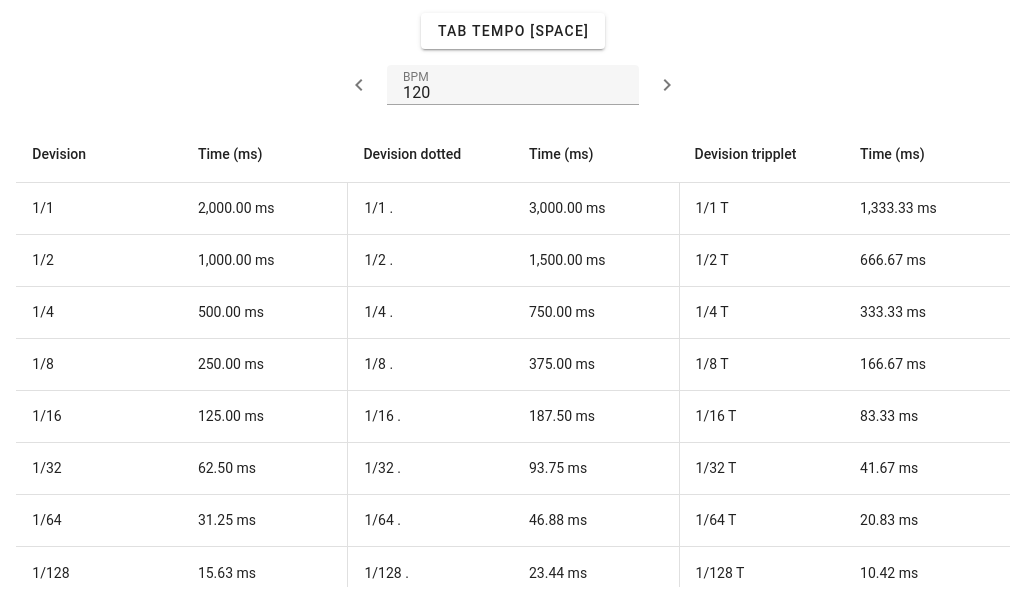
Test: BPM Comonent › increments bpm
Click the 3rd button at (667, 85), box [655,73,679,97]
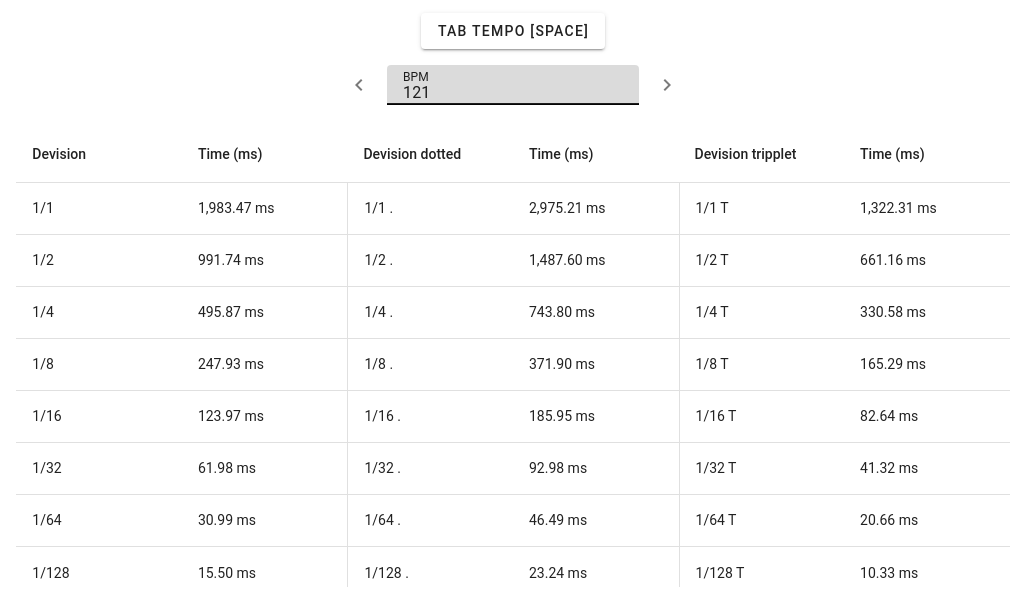
Expected: the number field labelled "BPM" holds "121", [387,65,639,105]
